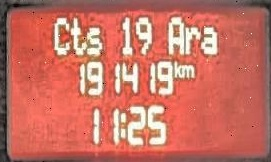1: (118, 12, 133, 56), (90, 105, 100, 145), (110, 104, 119, 146), (147, 57, 156, 94), (111, 61, 120, 94), (77, 59, 85, 96)
2: (126, 102, 144, 144)
4: (120, 59, 138, 96)
5: (145, 101, 167, 146)
9: (133, 13, 152, 56), (85, 58, 103, 96), (156, 57, 173, 95)
X: (165, 12, 184, 55), (52, 13, 69, 57), (70, 14, 86, 56), (200, 23, 219, 57), (86, 23, 102, 56), (184, 24, 200, 55), (181, 62, 194, 80), (172, 58, 181, 78), (119, 109, 125, 139)
